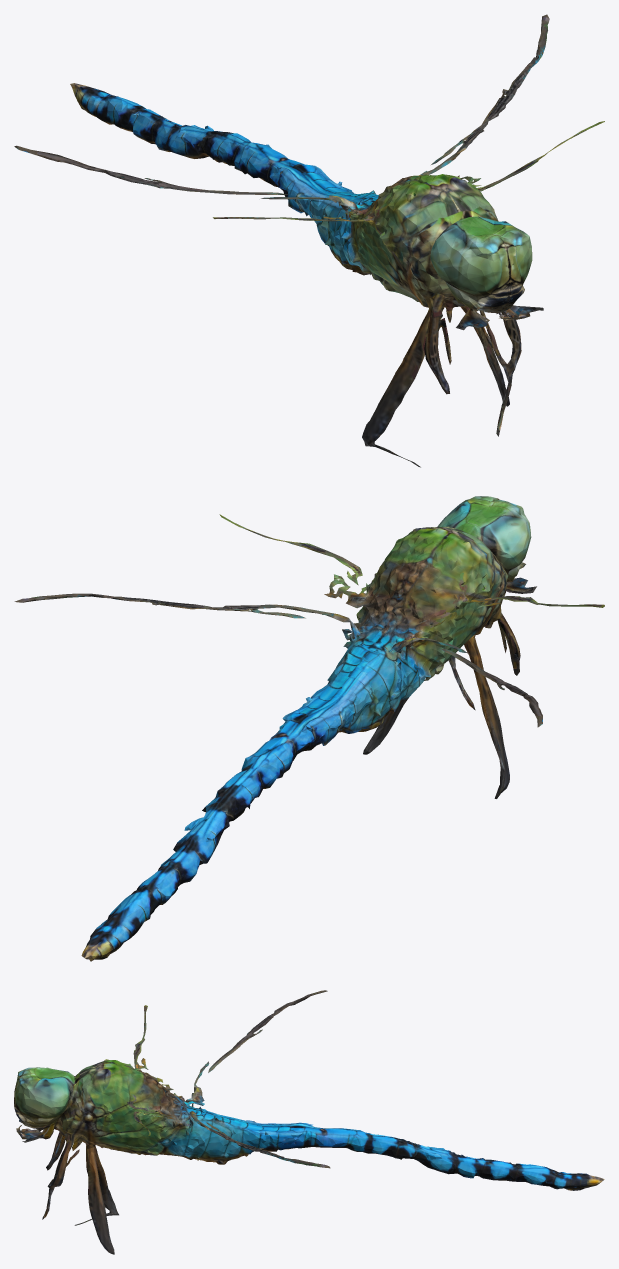
Rendered from emperor-dragonfly.glb.
The picture shows the model from 3 angles, top to bottom: view 1: azimuth 30°, elevation 25°; view 2: azimuth 150°, elevation 25°; view 3: azimuth 270°, elevation 25°; orthographic projection. The views are drawn at different scales.
Parts seen in each view (by area): view 1: Object_2; view 2: Object_2; view 3: Object_2.
Boxes of the visible parts, <box> form: Object_2: <box>14,14,604,467</box>; Object_2: <box>14,496,604,961</box>; Object_2: <box>14,990,604,1254</box>.
Size of the model in its own units: 1.25 by 0.5786 by 1.77.
1 material, 1 textured.
